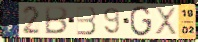2: (21, 5, 41, 36)
9: (102, 7, 121, 35)
B: (44, 5, 70, 36), (75, 6, 98, 36)
G: (129, 5, 153, 38)
X: (155, 7, 179, 38)
